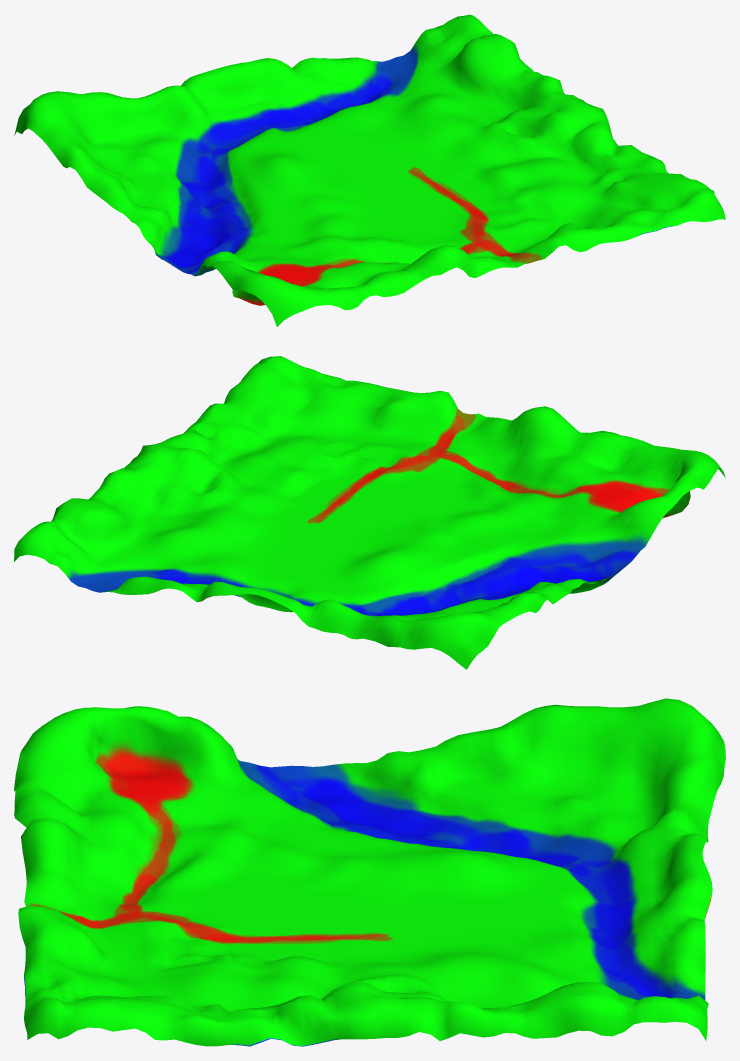
The model's file is Ground.glb.
3 renders of one model, top to bottom at view 1: azimuth 30°, elevation 25°; view 2: azimuth 150°, elevation 25°; view 3: azimuth 270°, elevation 25°, orthographic. The views are drawn at different scales.
Visible parts, largest first — view 1: Ground; view 2: Ground; view 3: Ground.
Part boxes in pixels (bbox=[...]): Ground: bbox=[14, 14, 725, 326]; Ground: bbox=[14, 356, 725, 669]; Ground: bbox=[14, 698, 725, 1046].
Bounding box in the file's own units: 1082 × 158 × 1088.
1 material, 1 textured.
